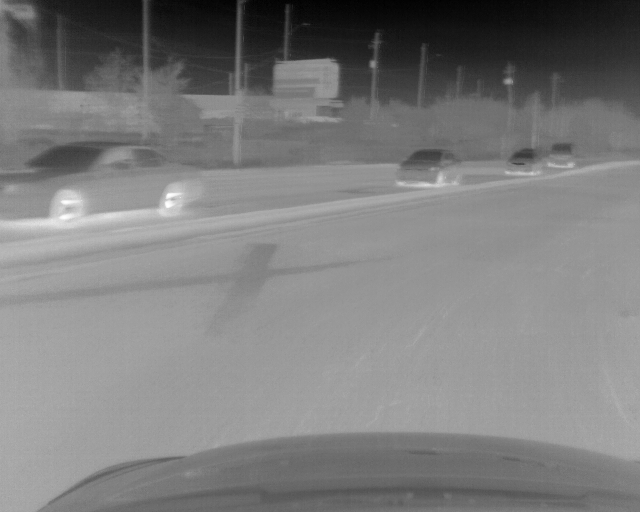car: (1, 140, 206, 225), (392, 148, 462, 187), (504, 148, 541, 175), (548, 141, 577, 169)
